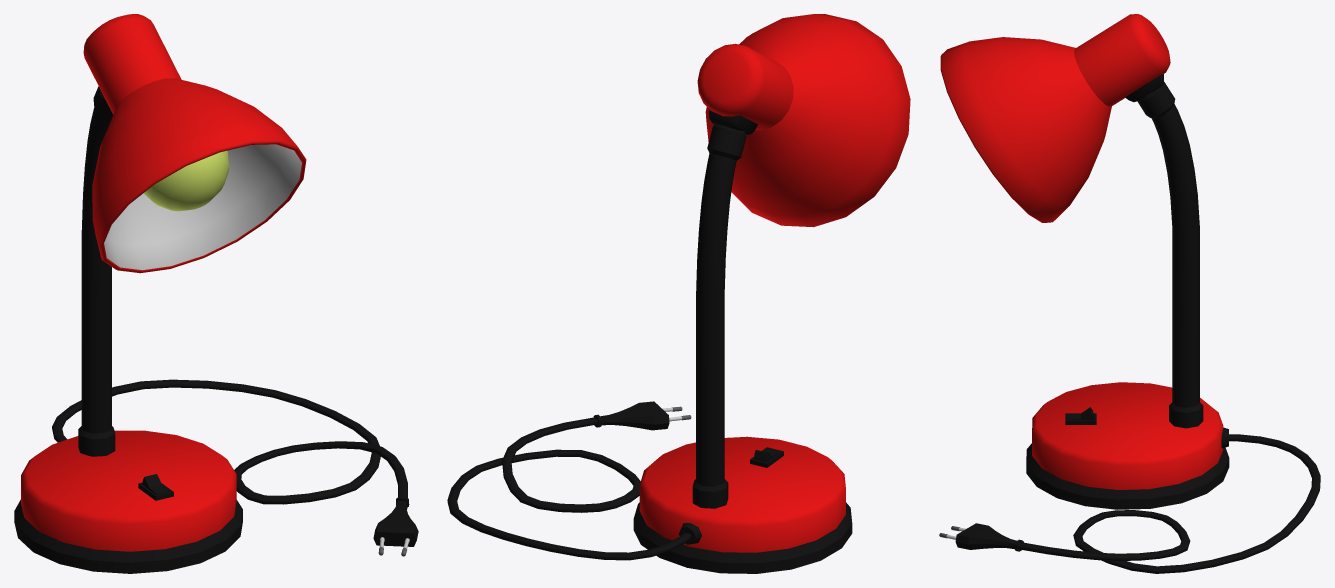
The model's file is Lampara.fbx.
3 renders of one model, left to right at view 1: azimuth 30°, elevation 25°; view 2: azimuth 150°, elevation 25°; view 3: azimuth 270°, elevation 25°, orthographic. The views are drawn at different scales.
Visible parts, largest first — view 1: lampara_00, enchufe_cable_00, foco_00; view 2: lampara_00, enchufe_cable_00; view 3: lampara_00, enchufe_cable_00.
Part boxes in pixels (<box>): lampara_00: <box>14,14,306,573</box>; enchufe_cable_00: <box>52,379,418,556</box>; foco_00: <box>143,150,229,211</box>; lampara_00: <box>633,14,910,573</box>; enchufe_cable_00: <box>447,401,691,560</box>; lampara_00: <box>940,14,1229,509</box>; enchufe_cable_00: <box>939,434,1320,573</box>.
Bounding box in the file's own units: 11.49 × 15.29 × 11.75.
